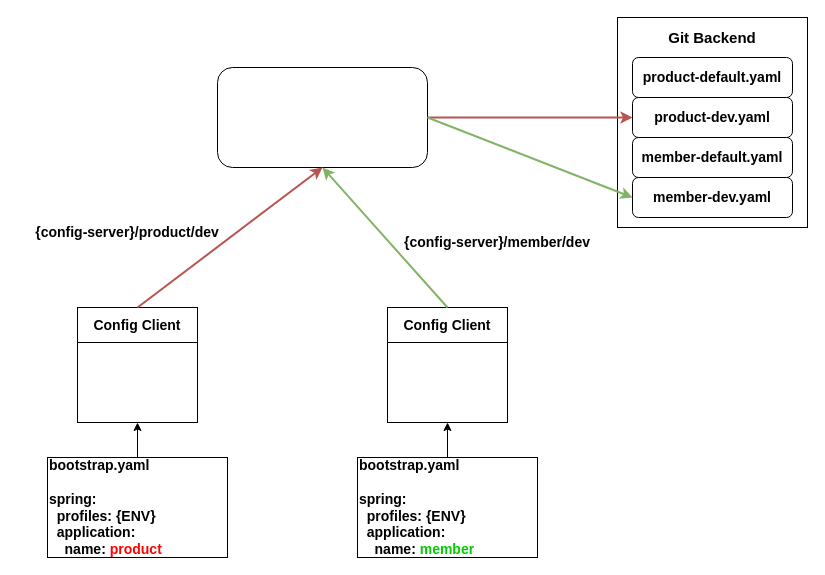
The diagram is 825 pixels wide and 575 high, and some of its shapes have lost their labels. Here are the shapes that lost their labels. From the top down, the centre of each, then its label:
At [322,117]: "Config Server".
At [137,382]: "Product Server (dev)".
At [447,382]: "Member Server (dev)".
